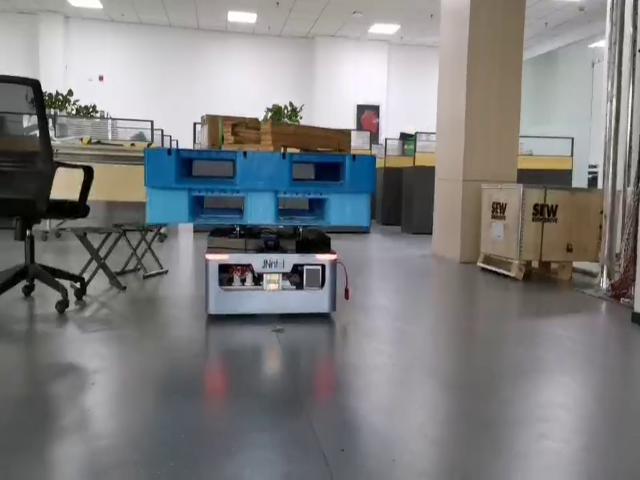block: (237, 146, 290, 195), (324, 193, 372, 230), (145, 144, 179, 192), (148, 193, 190, 230), (345, 152, 380, 195), (241, 190, 280, 228)
front: (142, 147, 385, 196), (143, 190, 379, 233)
hole pallet: (178, 157, 239, 187), (276, 197, 330, 230), (289, 161, 347, 188), (186, 196, 244, 220)
